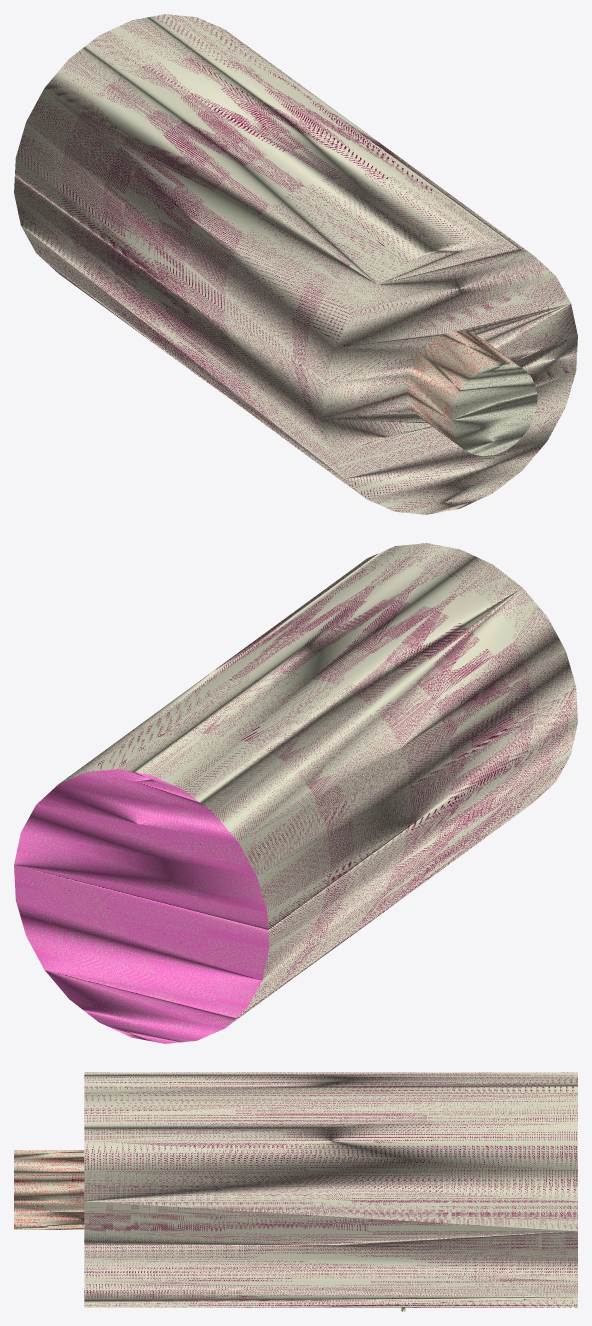
File: model_align.obj
The picture shows the model from 3 angles, top to bottom: view 1: azimuth 30°, elevation 25°; view 2: azimuth 150°, elevation 25°; view 3: azimuth 270°, elevation 25°; orthographic projection. The views are drawn at different scales.
Size of the model in its own units: 0.085 by 0.0865 by 0.2033.
